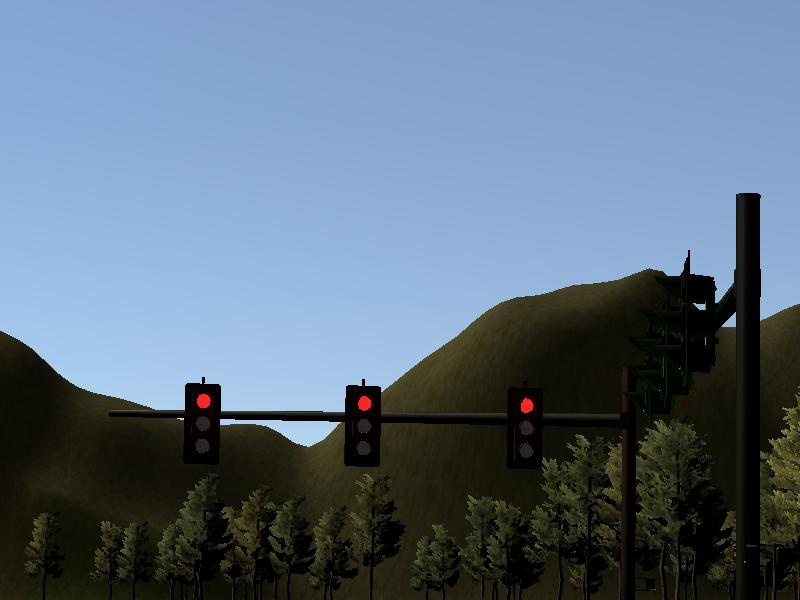red: (185, 383, 222, 464), (347, 385, 384, 466), (508, 388, 545, 469)
